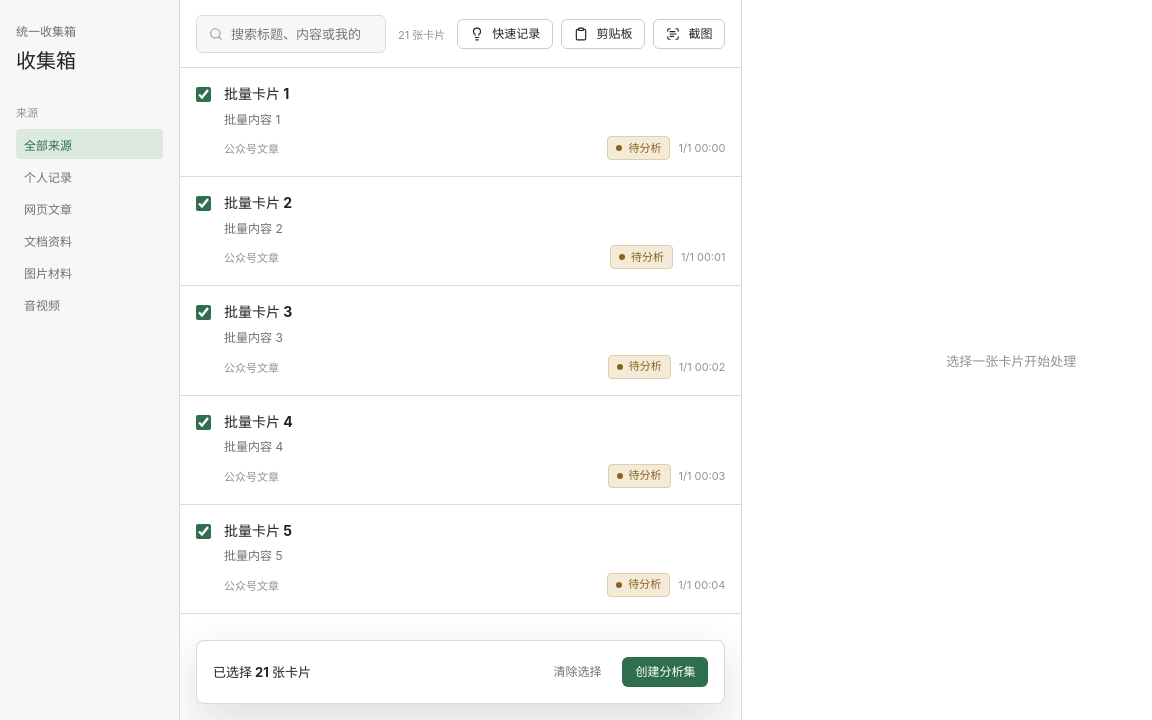
Test case: InboxPage › keeps selection and shows an error instead of navigating when more than 20 cards are selected
Click the button "创建分析集" at (665, 672), box [622,657,708,687]
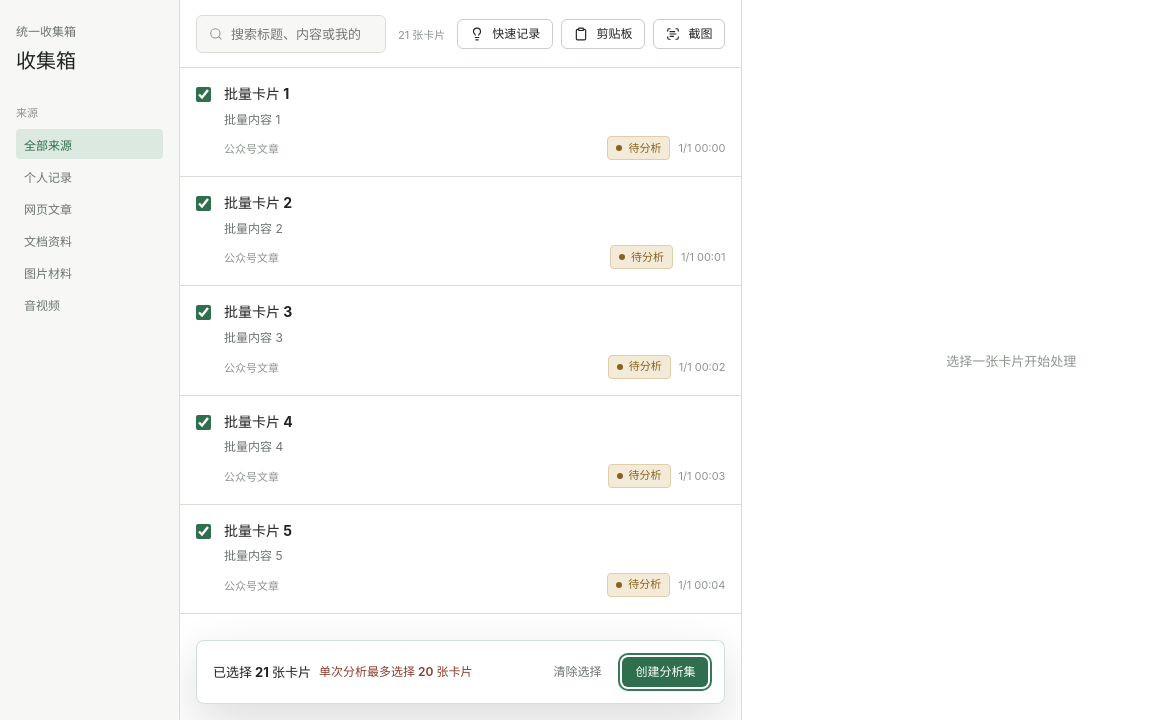
Expected: the text "单次分析最多选择 20 张卡片" is shown, [319,664,472,680]
